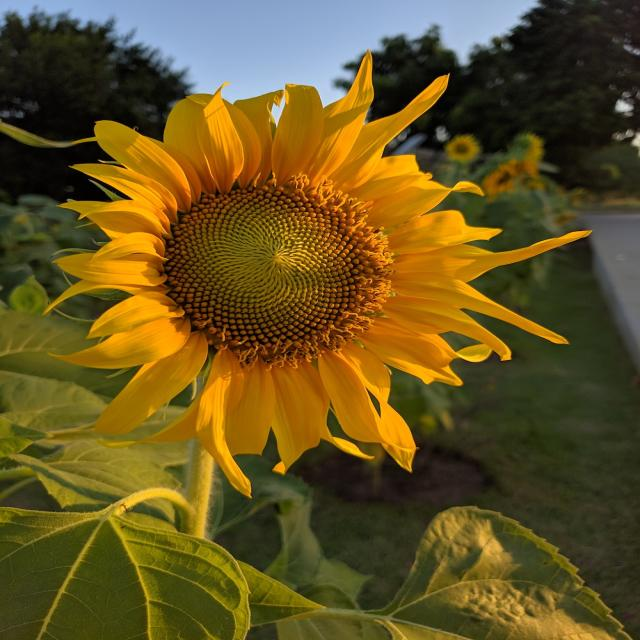sunflower: (33, 46, 608, 505), (464, 154, 538, 206), (435, 127, 496, 173), (509, 130, 550, 178)
